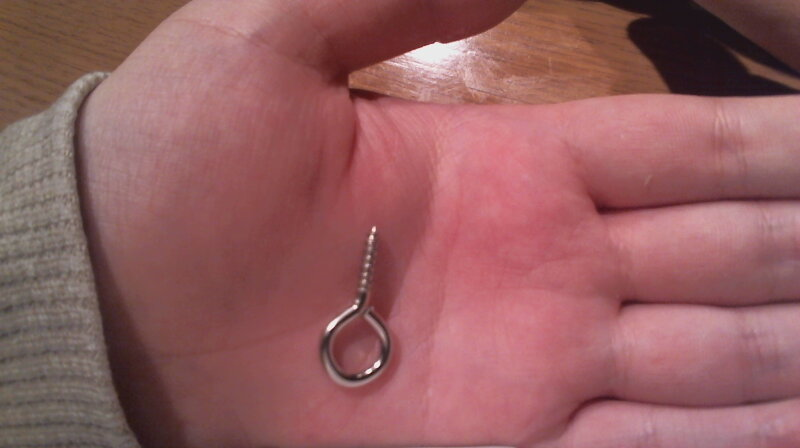O001: (316, 221, 395, 395)
